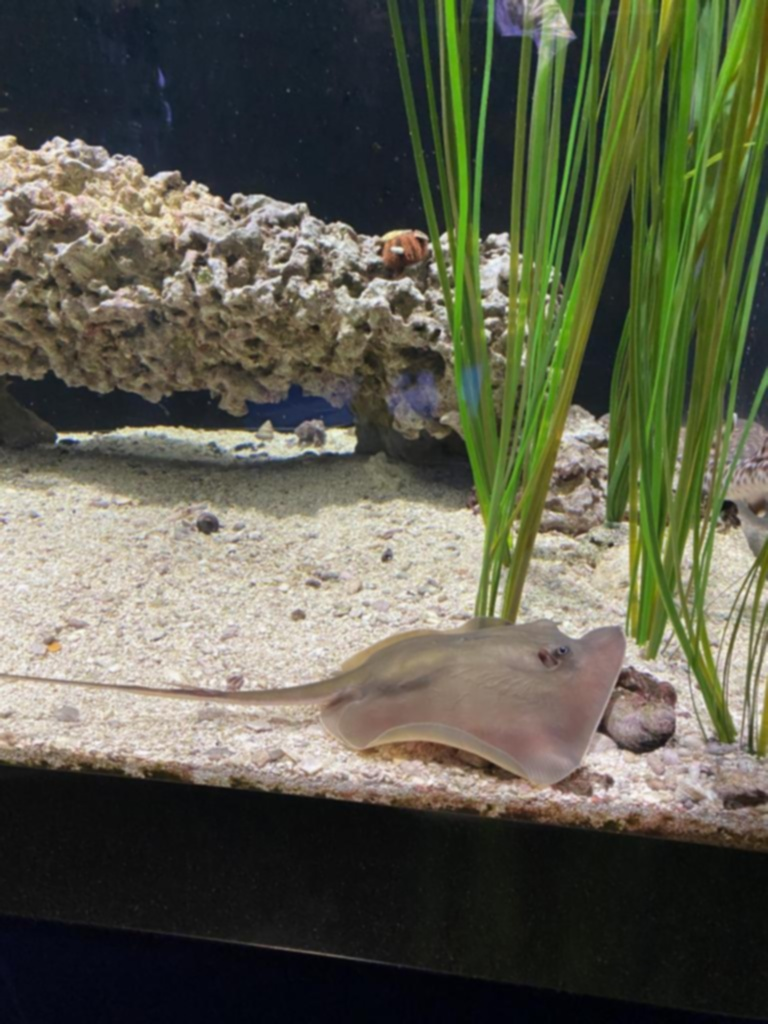stingray: (320, 622, 626, 788)
